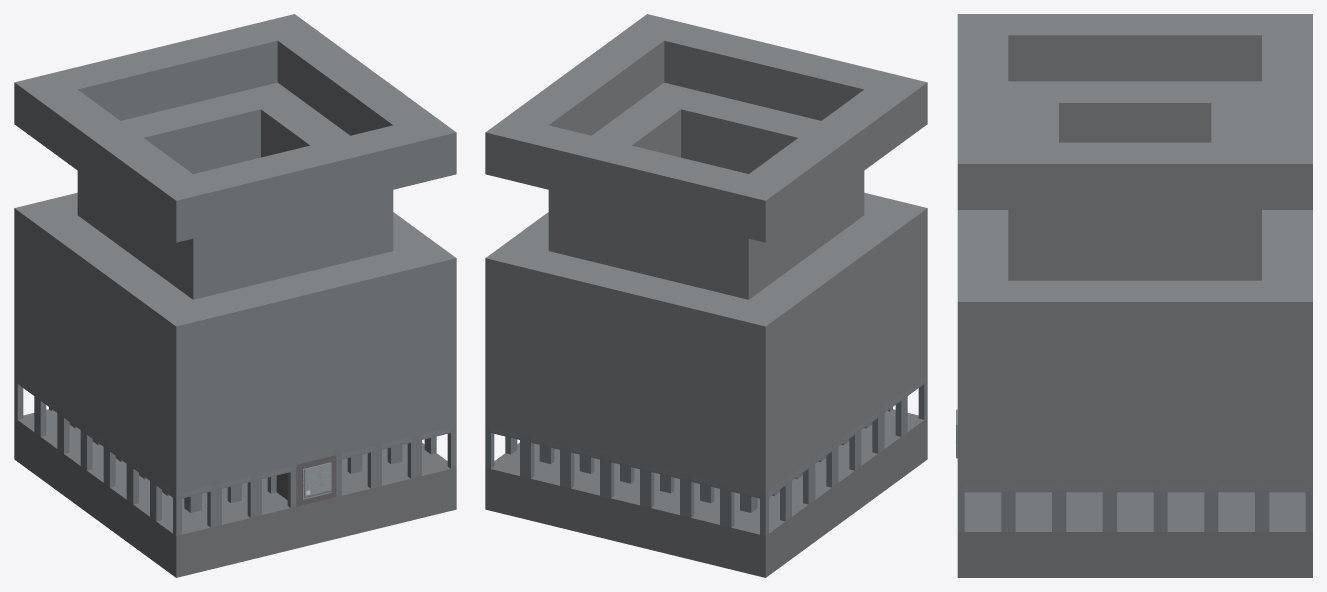
The model's file is cooling_tower.obj.
The picture shows the model from 3 angles, left to right: view 1: azimuth 30°, elevation 25°; view 2: azimuth 150°, elevation 25°; view 3: azimuth 270°, elevation 25°; orthographic projection. The views are drawn at different scales.
Parts seen in each view (by area): view 1: cooling_tower; view 2: cooling_tower; view 3: cooling_tower.
Part boxes in pixels (bbox=[...]): cooling_tower: bbox=[14, 14, 456, 577]; cooling_tower: bbox=[485, 14, 927, 577]; cooling_tower: bbox=[956, 14, 1312, 577].
Bounding box in the file's own units: 7 × 9 × 7.03.
